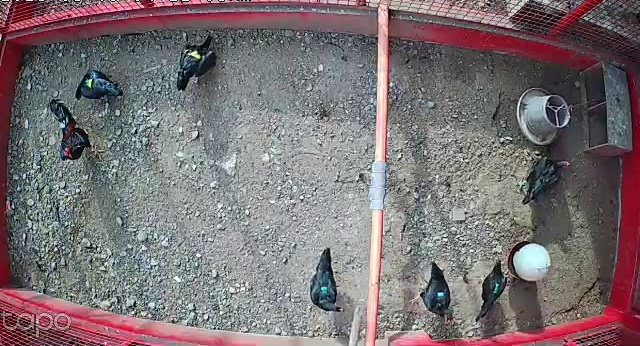Chicken: (405, 258, 456, 323), (517, 150, 573, 204), (306, 247, 347, 319), (175, 30, 218, 91), (474, 259, 507, 321), (72, 67, 122, 103)
Rooster: (48, 96, 104, 165)
Saddle_Color_Blue: (435, 290, 444, 298)
Saddle_Color_Bluegreen: (494, 283, 500, 294)
Saddle_Color_Green: (319, 286, 330, 294)
Saddle_Color_Yellow: (185, 48, 202, 61)
Saddle_Color_YellowGreen: (85, 77, 92, 87)
